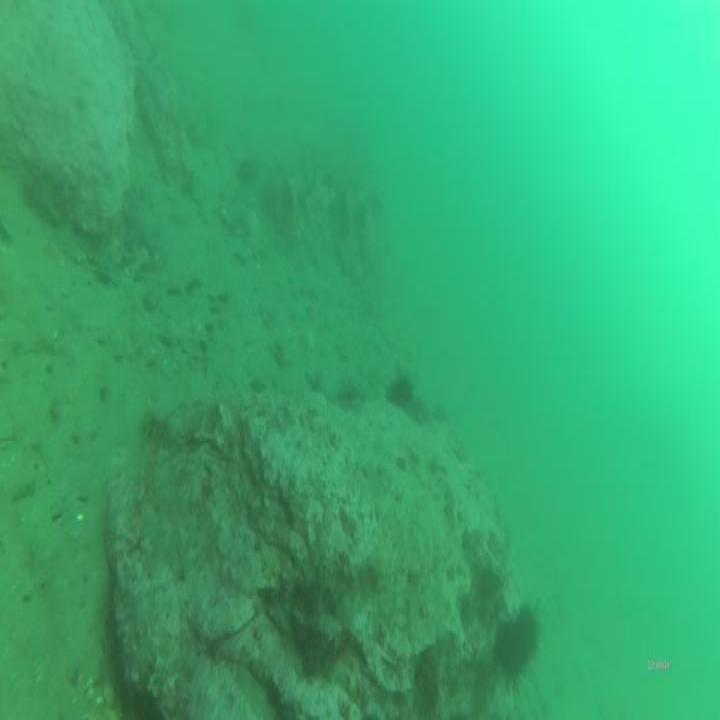echinus: (492, 610, 528, 690), (514, 599, 542, 670), (381, 370, 418, 416)
